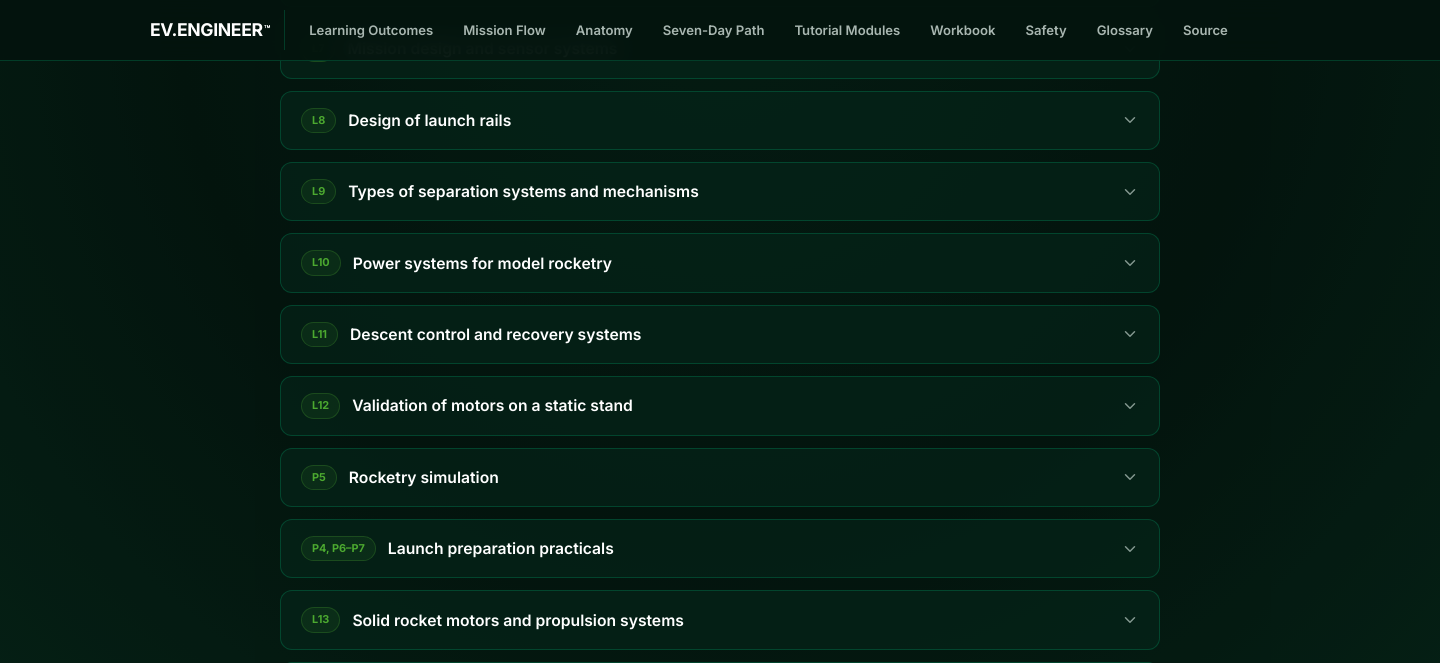
Test: Model Rocketry learning guide page › tutorial modules are collapsed by default and expand on click, revealing safety-gate content for the motor module
(page scrolled)
Click the button "L12 Validation of motors on a static stand".
click(321, 406)  # box [281, 377, 1159, 435]
(page scrolled)
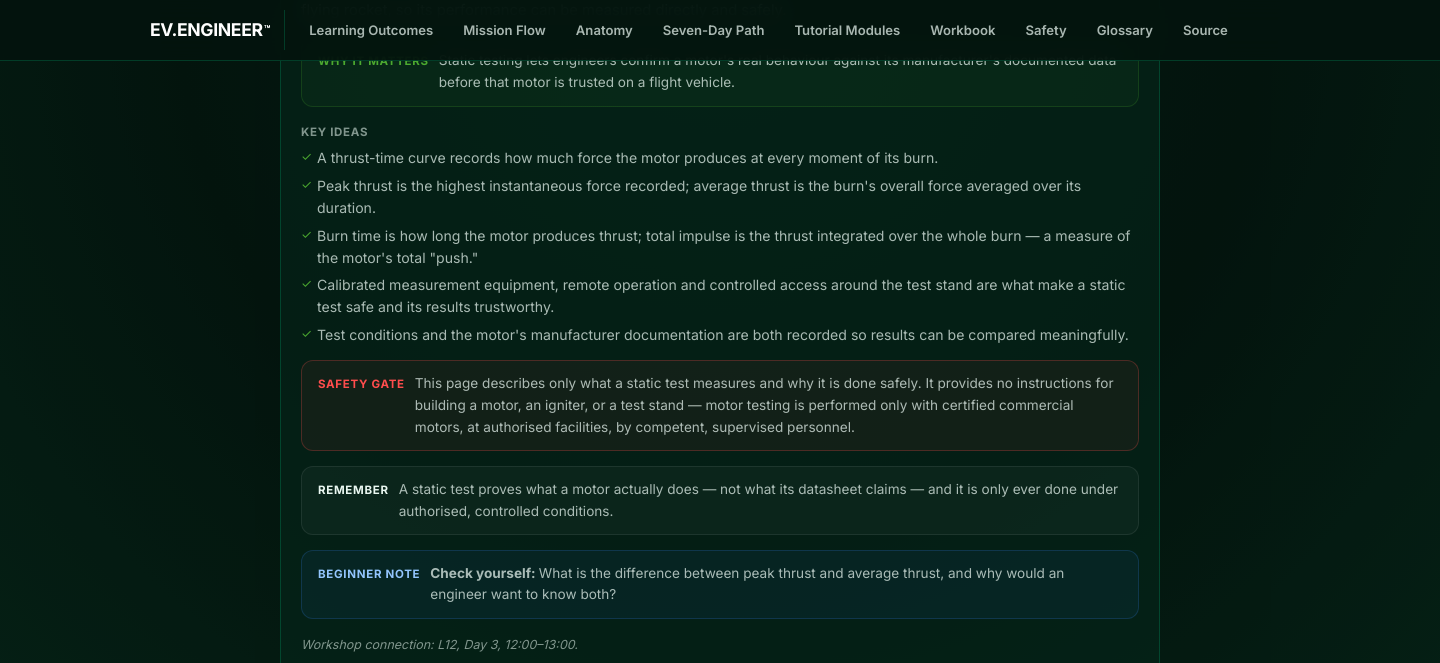
Check: the text "Safety gate" is shown, box [318, 373, 405, 394]
Check: the text "motor testing is performed only with certified commercial motors" is shown, box [415, 375, 1114, 435]
